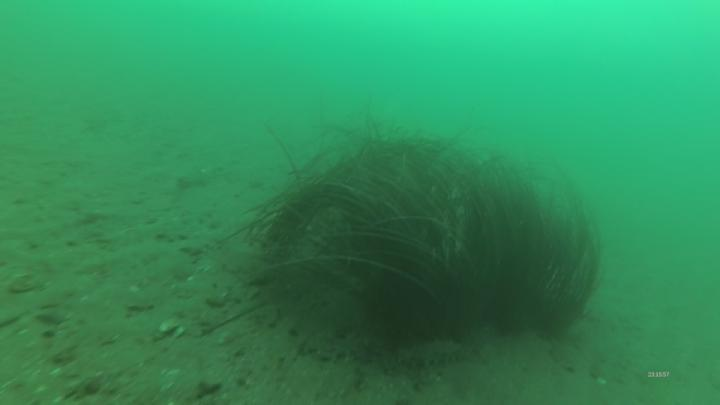holothurian: (396, 337, 469, 372)
waterweeds: (250, 122, 602, 335)
